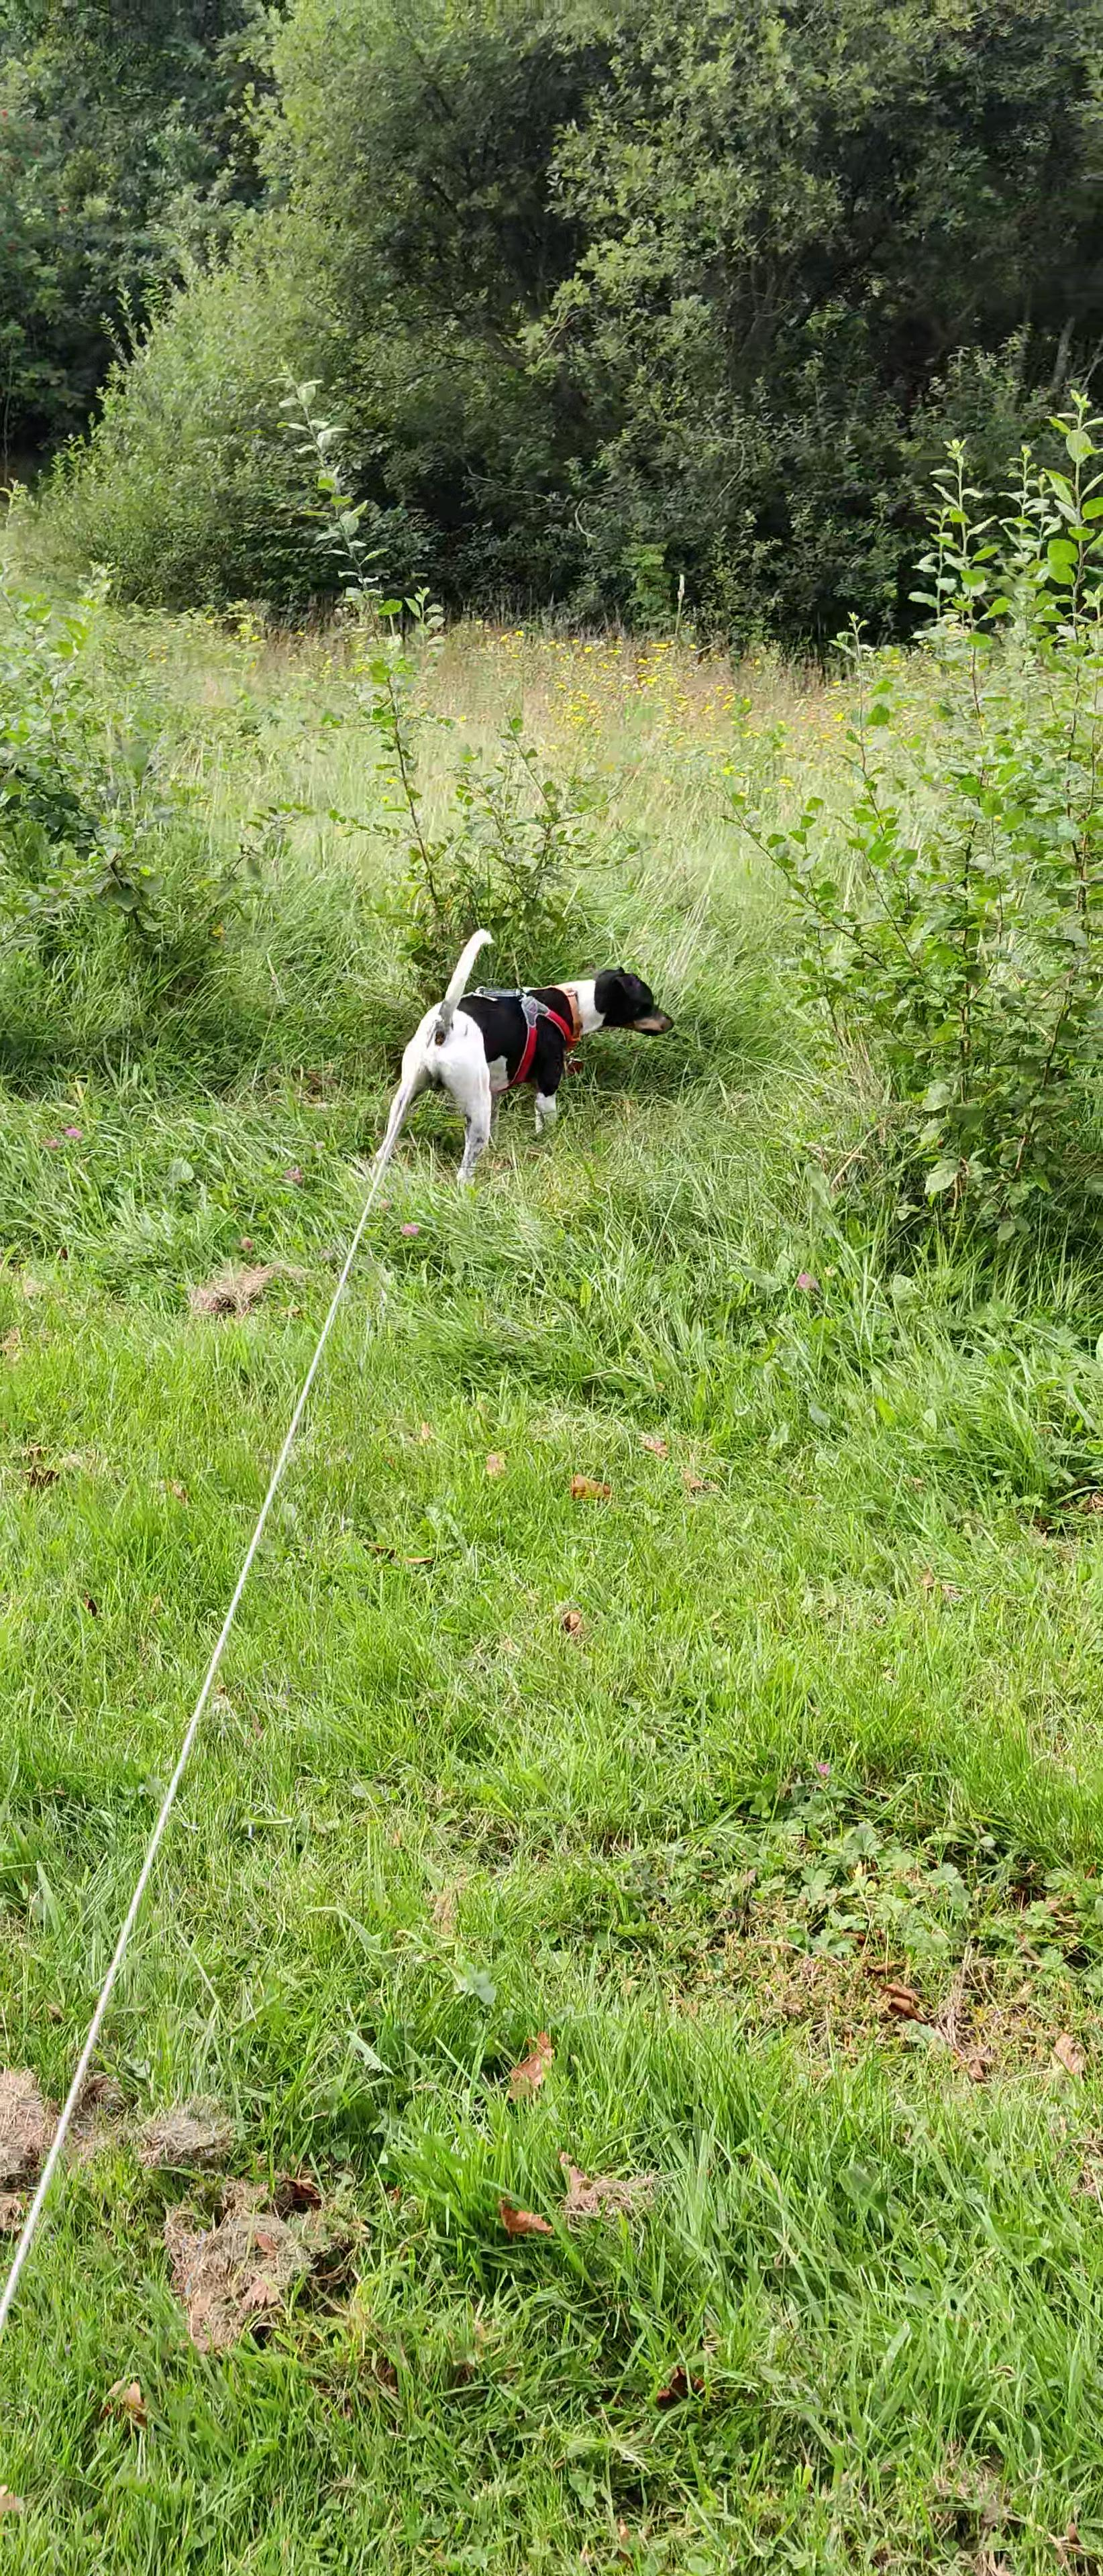Dog: (367, 922, 677, 1189)
